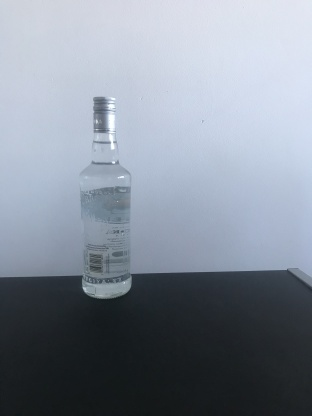nakretka: (90, 94, 117, 135)
